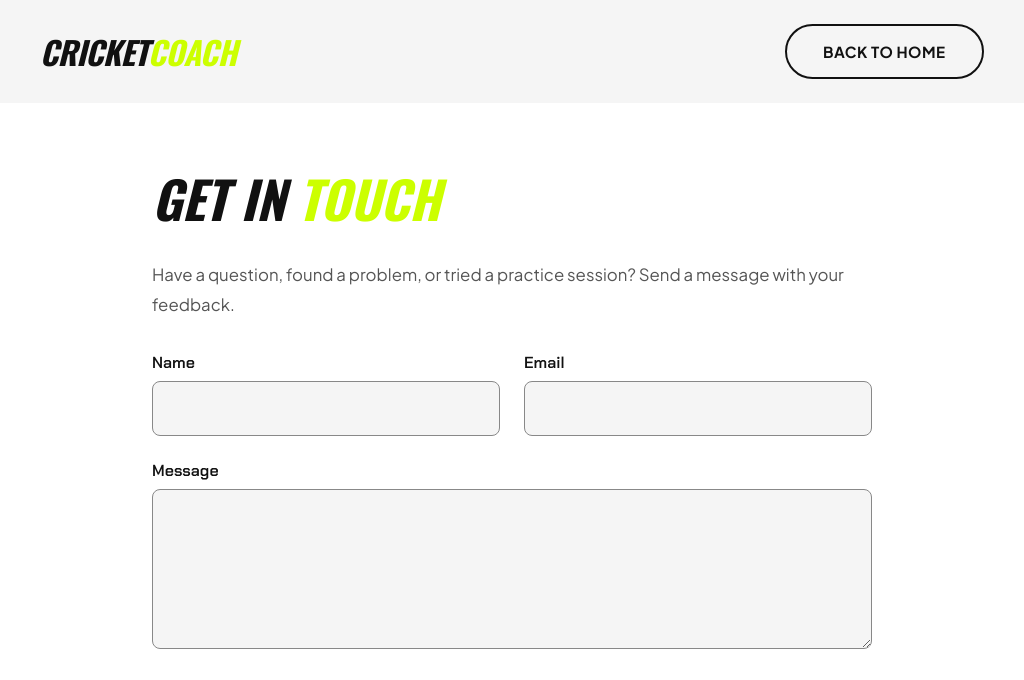
contact form › keeps the draft after failure so visitors can retry explicitly
Step 1. Type "Test visitor" into the field labelled "Name" → (326, 409), box 152,382 -> 500,436
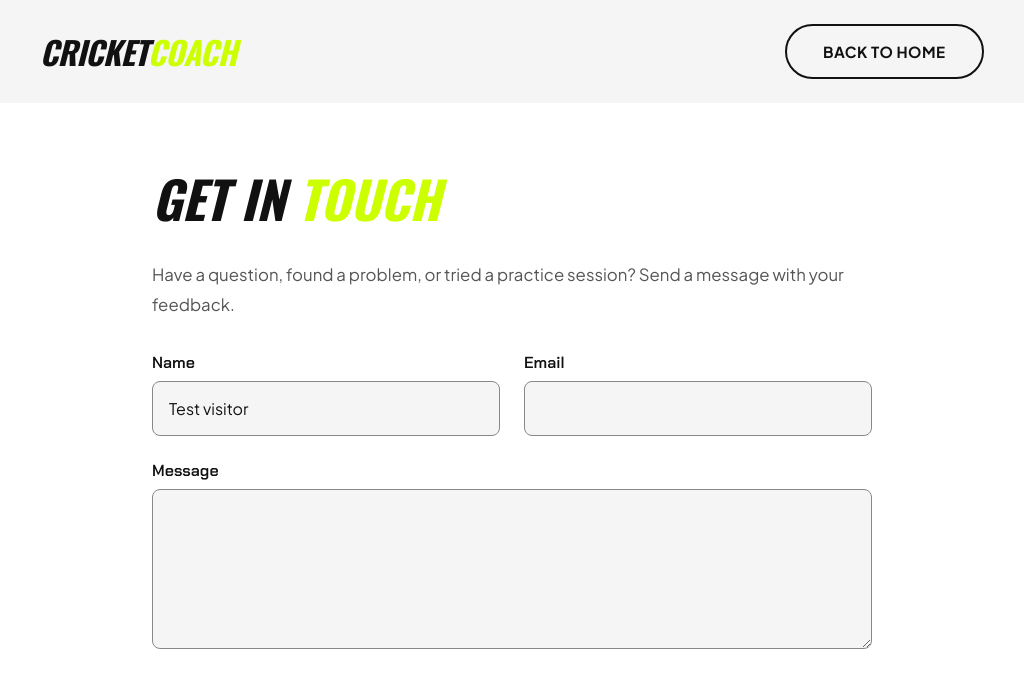
Step 2. Type "visitor@example.com" into the field labelled "Email" → (698, 409), box 524,382 -> 872,436
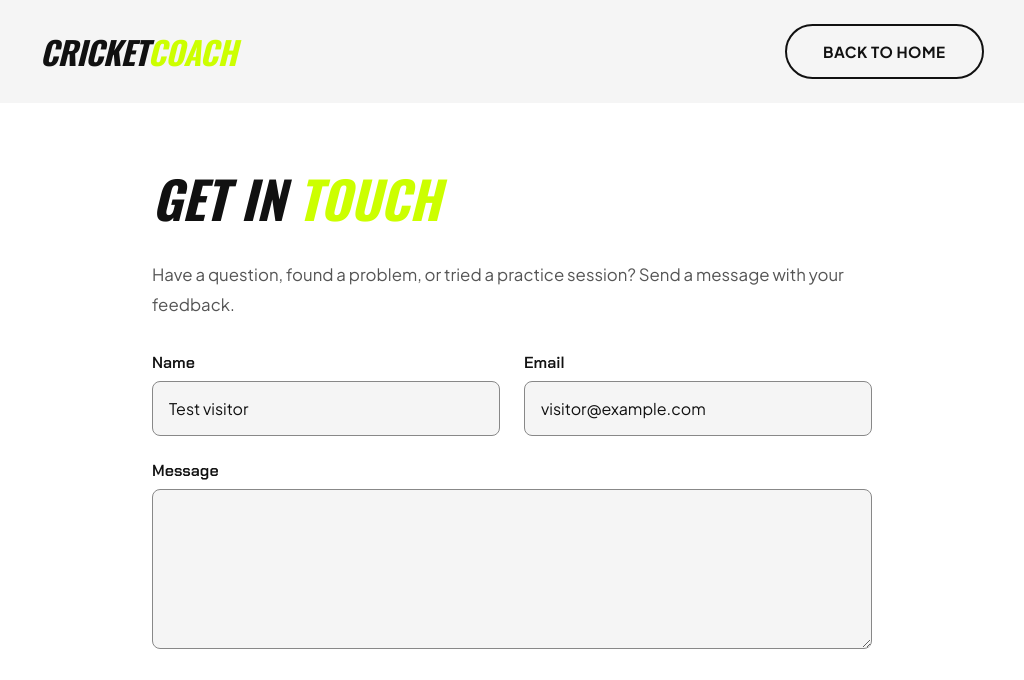
Step 3. Type "The camera feedback is useful." into the text box labelled "Message" → (512, 570), box 152,490 -> 872,650
(page scrolled)
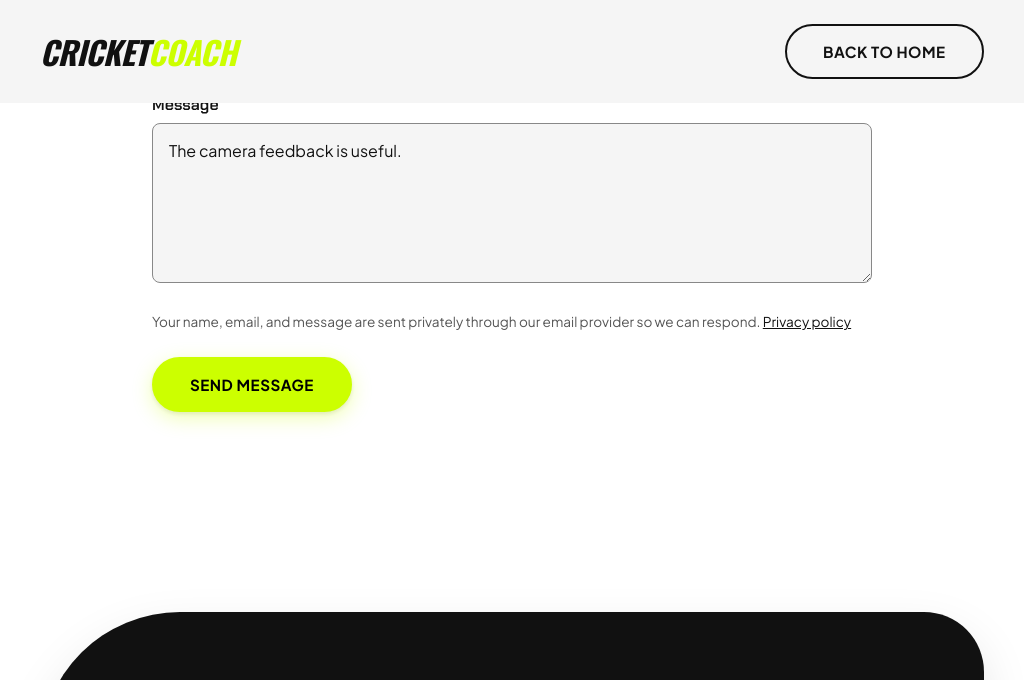
Step 4. Click the button "Send message" → (252, 385), box 152,357 -> 352,412
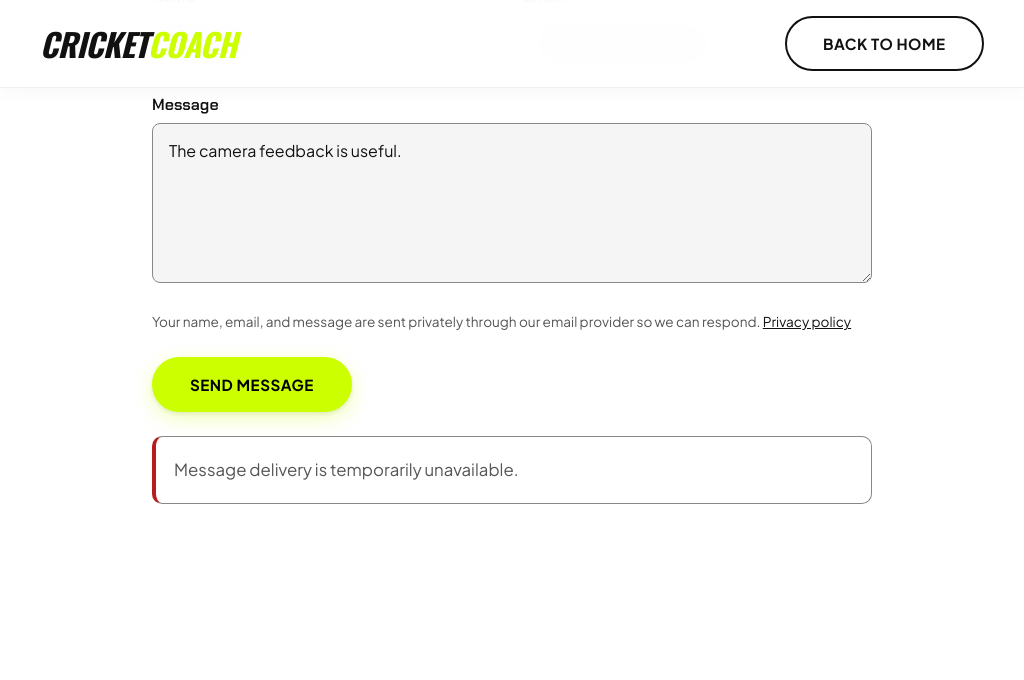
Result: the message reads "Message delivery is temporarily unavailable." at 174,459 -> 518,480
